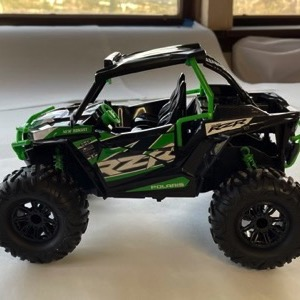polaris: (2, 42, 299, 272)
